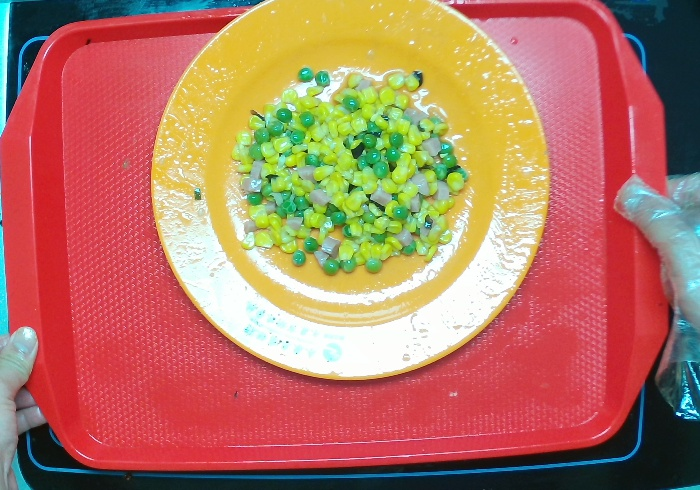YKMZ-Ju_Se_Mian_Pan: (149, 1, 551, 388)
